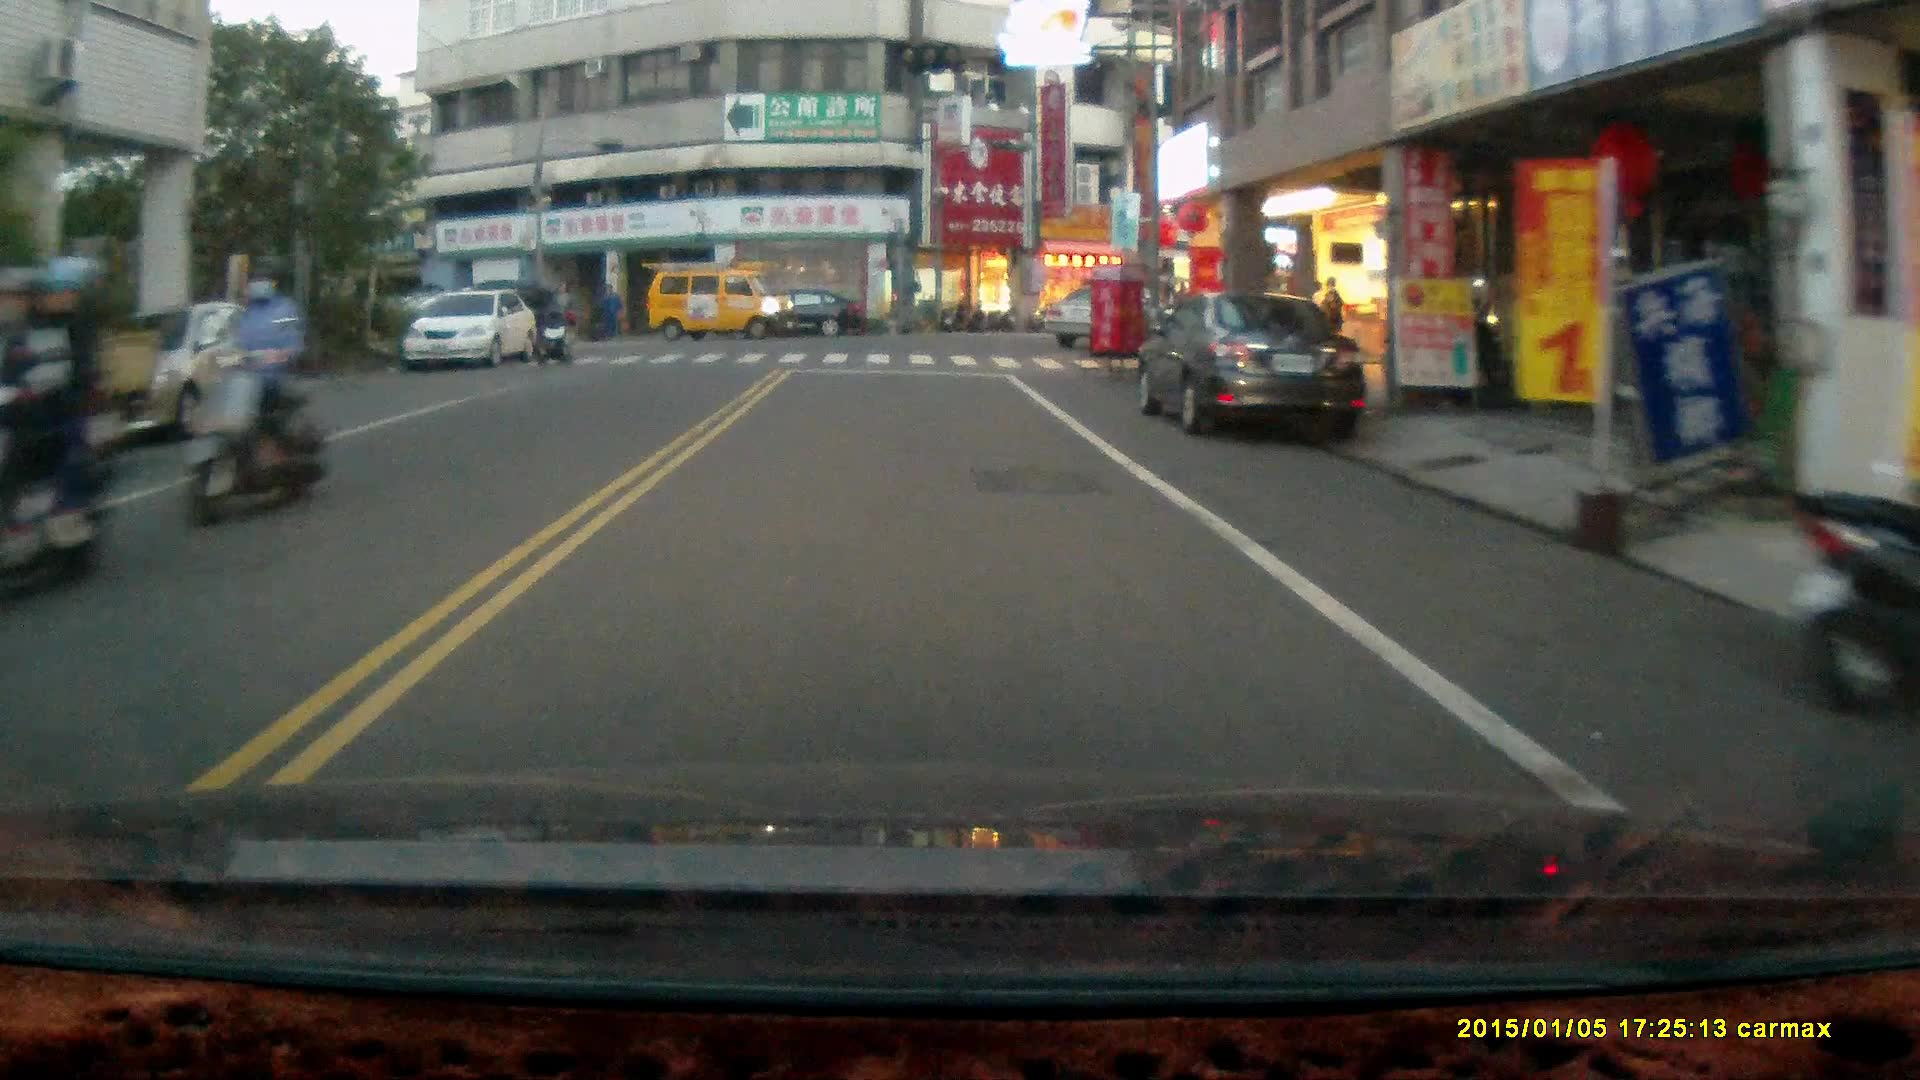pedestrian: (1321, 276, 1347, 366), (547, 277, 575, 347)
rider: (179, 251, 326, 531), (0, 255, 112, 610), (531, 303, 578, 367)
vehicle: (1, 272, 198, 496), (1136, 292, 1377, 453), (78, 297, 287, 434), (647, 256, 795, 343), (408, 288, 538, 371), (740, 285, 868, 336)
